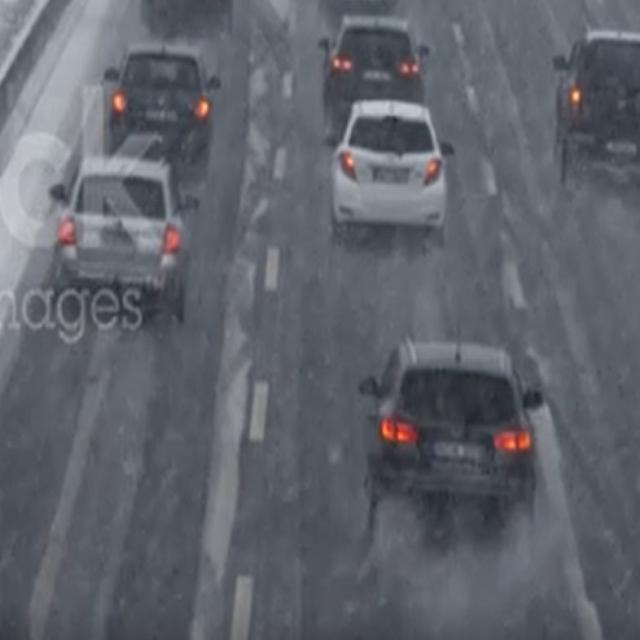car: (360, 339, 542, 540), (60, 153, 190, 318), (328, 98, 450, 242), (104, 43, 222, 174), (554, 26, 640, 188), (318, 13, 433, 124)
